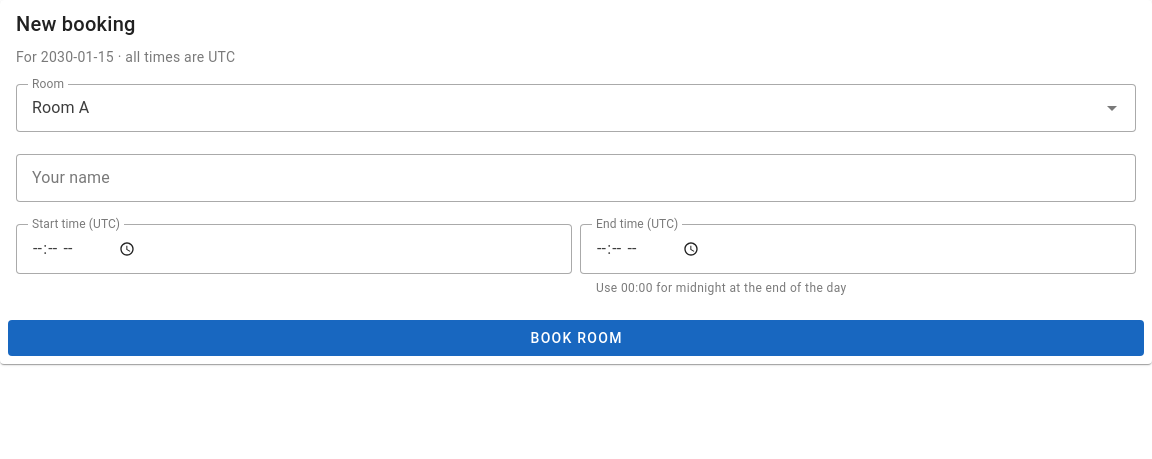
Scenario: BookingForm › shows a network failure as an error
Type "Alice" into the field named "bookedBy" at (576, 178), box [16, 154, 1136, 202]
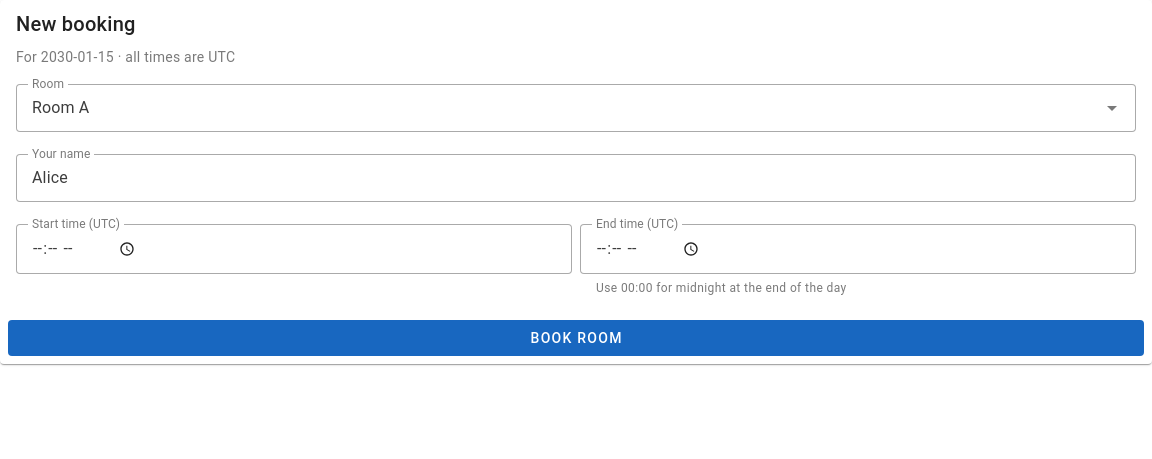
Type "10:00" into the time field named "startTime" at (294, 249), box [16, 224, 572, 274]
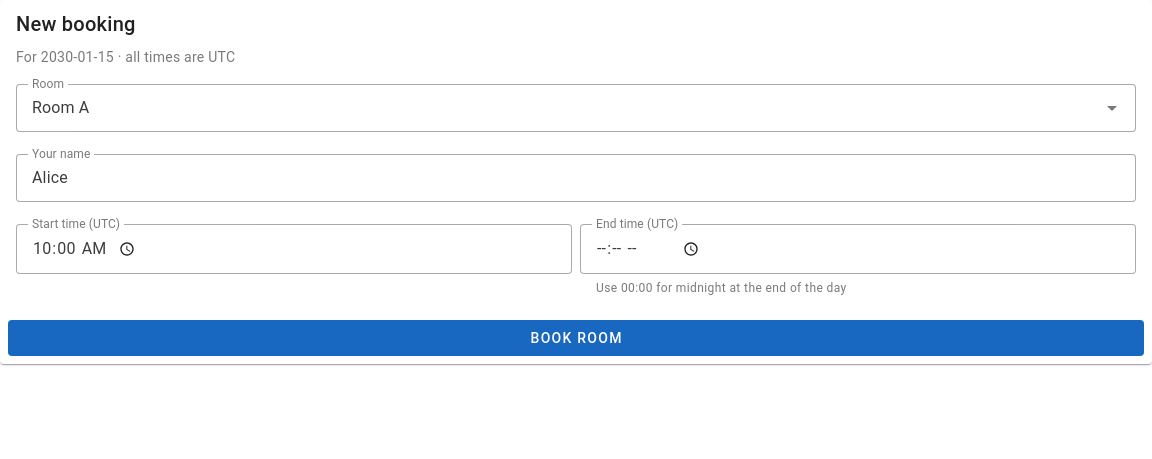
Type "11:00" into the time field named "endTime" at (858, 249), box [580, 224, 1136, 274]
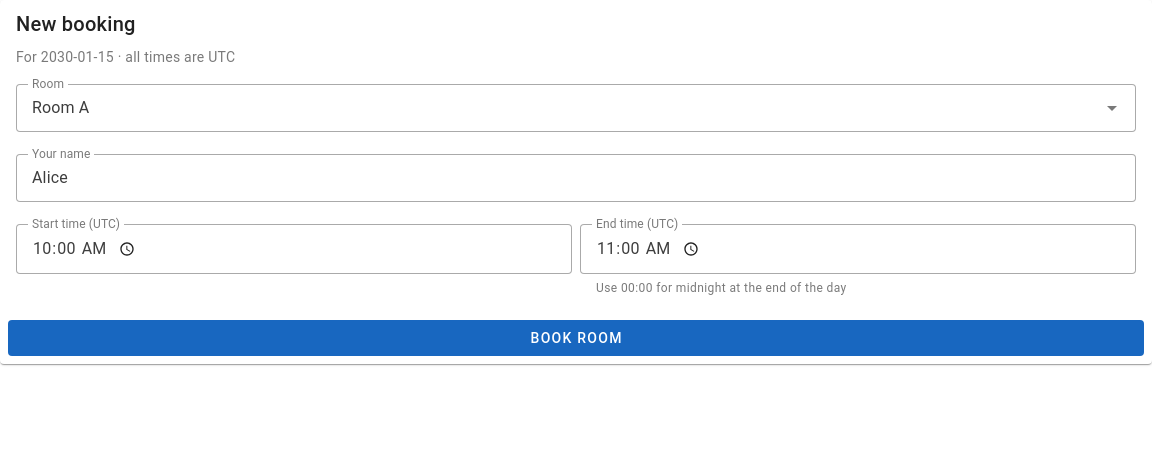
Submit the form
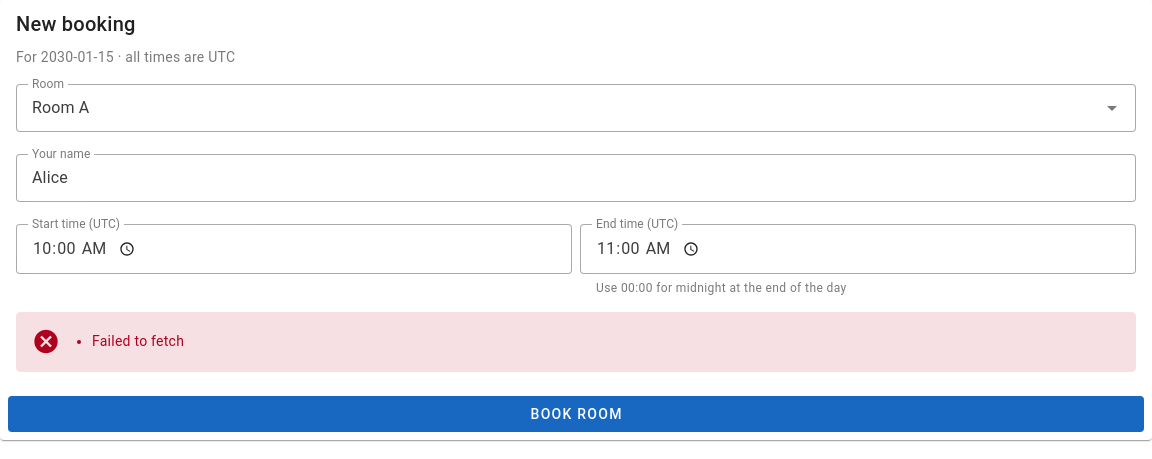
expect the message with test id "validation-errors" reads "Failed to fetch": met, box [92, 333, 184, 349]
